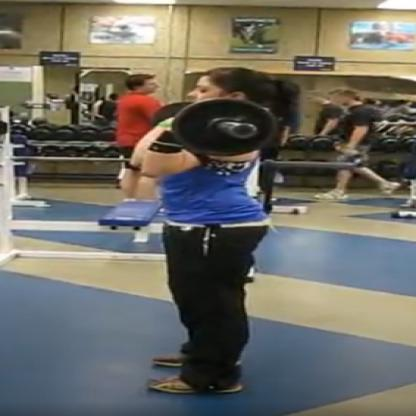Barbell: (164, 94, 286, 164)
